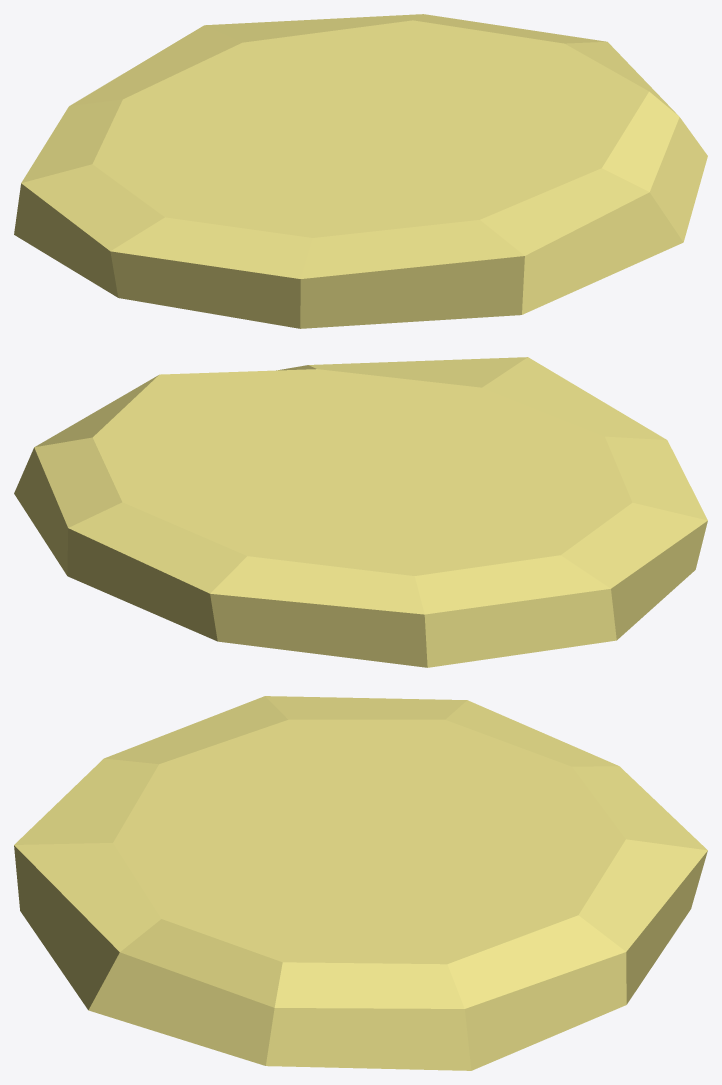
The model's file is PotatoCutModel.fbx.
3 views of the same model, one above another, from view 1: azimuth 30°, elevation 25°; view 2: azimuth 150°, elevation 25°; view 3: azimuth 270°, elevation 25° (orthographic). The views are drawn at different scales.
Parts seen in each view (by area): view 1: PotatoCut; view 2: PotatoCut; view 3: PotatoCut.
Part boxes in pixels (box(x1,y1,x2,y2)): PotatoCut: box(14, 14, 707, 328); PotatoCut: box(14, 357, 707, 667); PotatoCut: box(14, 696, 707, 1070).
Size of the model in its own units: 29.73 by 27.16 by 3.44.
